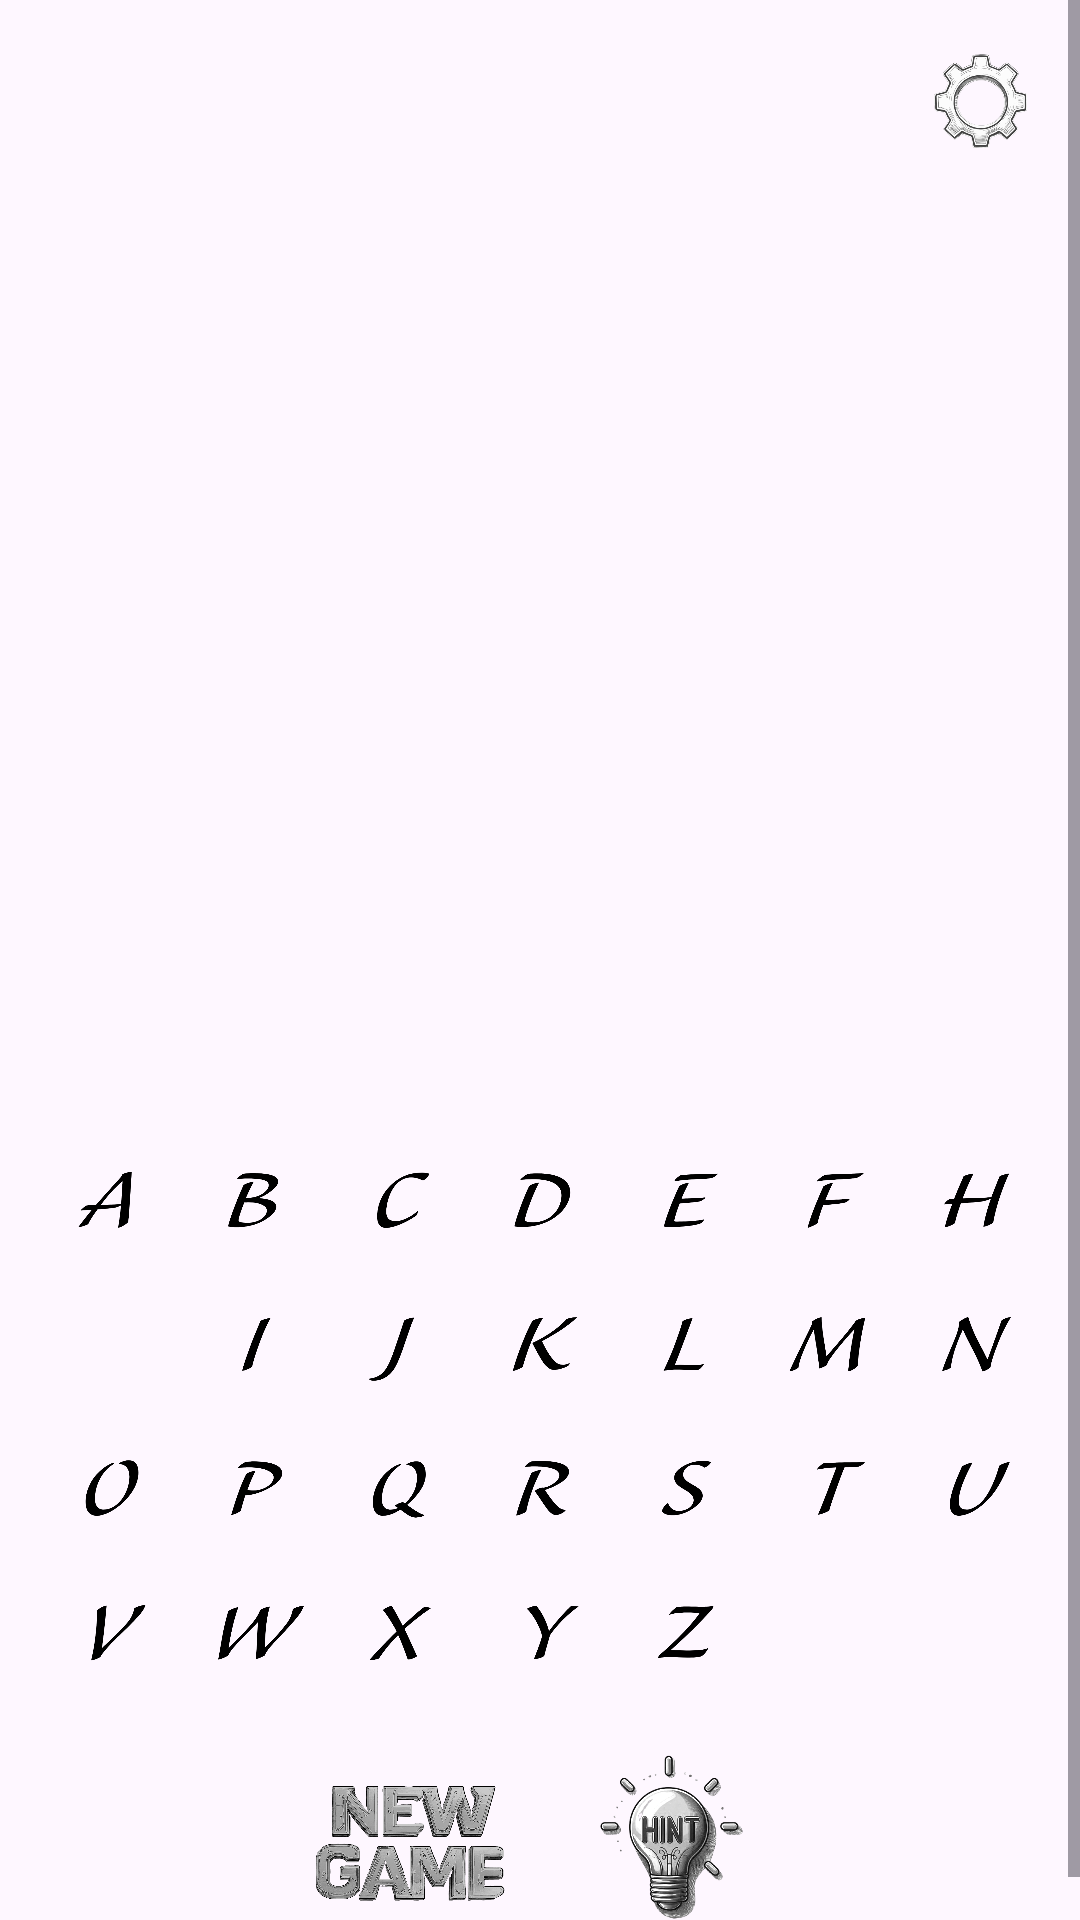

Where to tap for icons on this 1080px x 1920px app screen, as (x,y):
Settings: (980,101)
